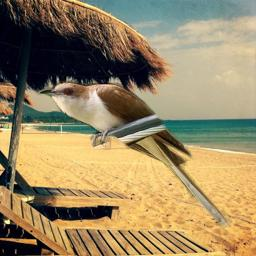Cuckoo: (37, 80, 233, 230)
